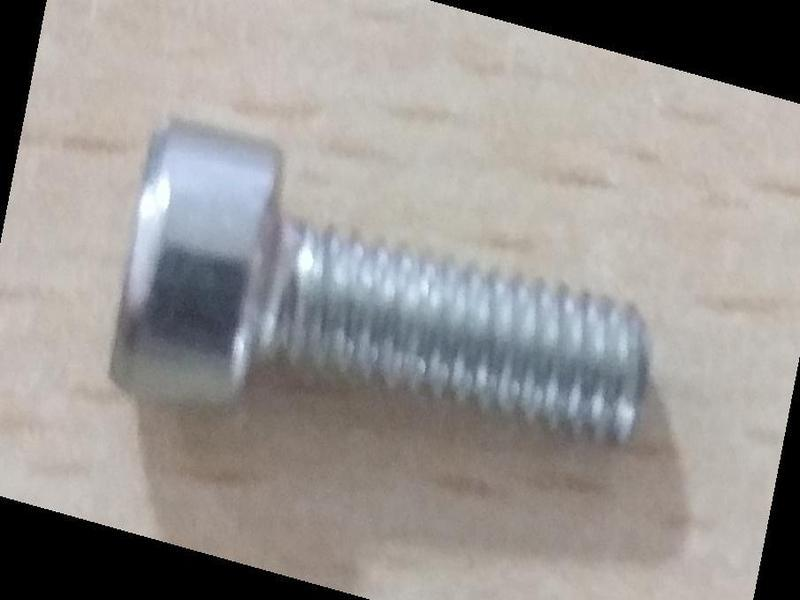smallscrew: (95, 88, 663, 491)
